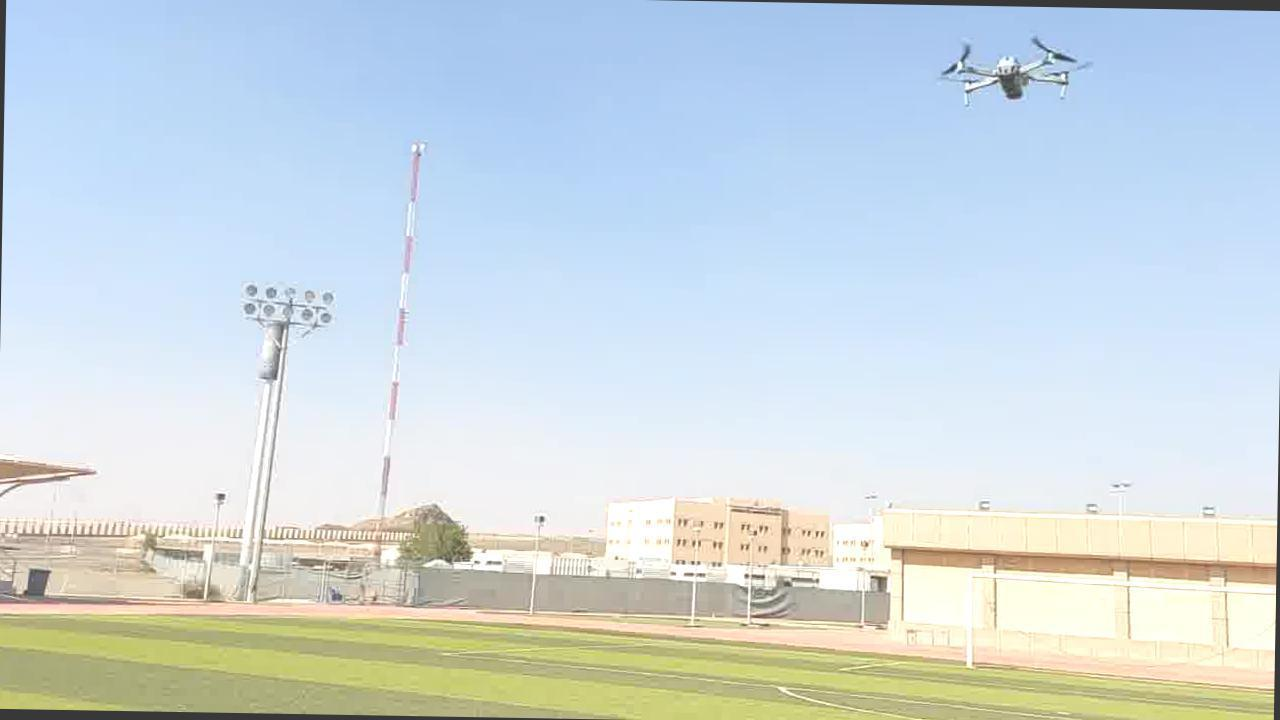drone: (939, 36, 1079, 106)
